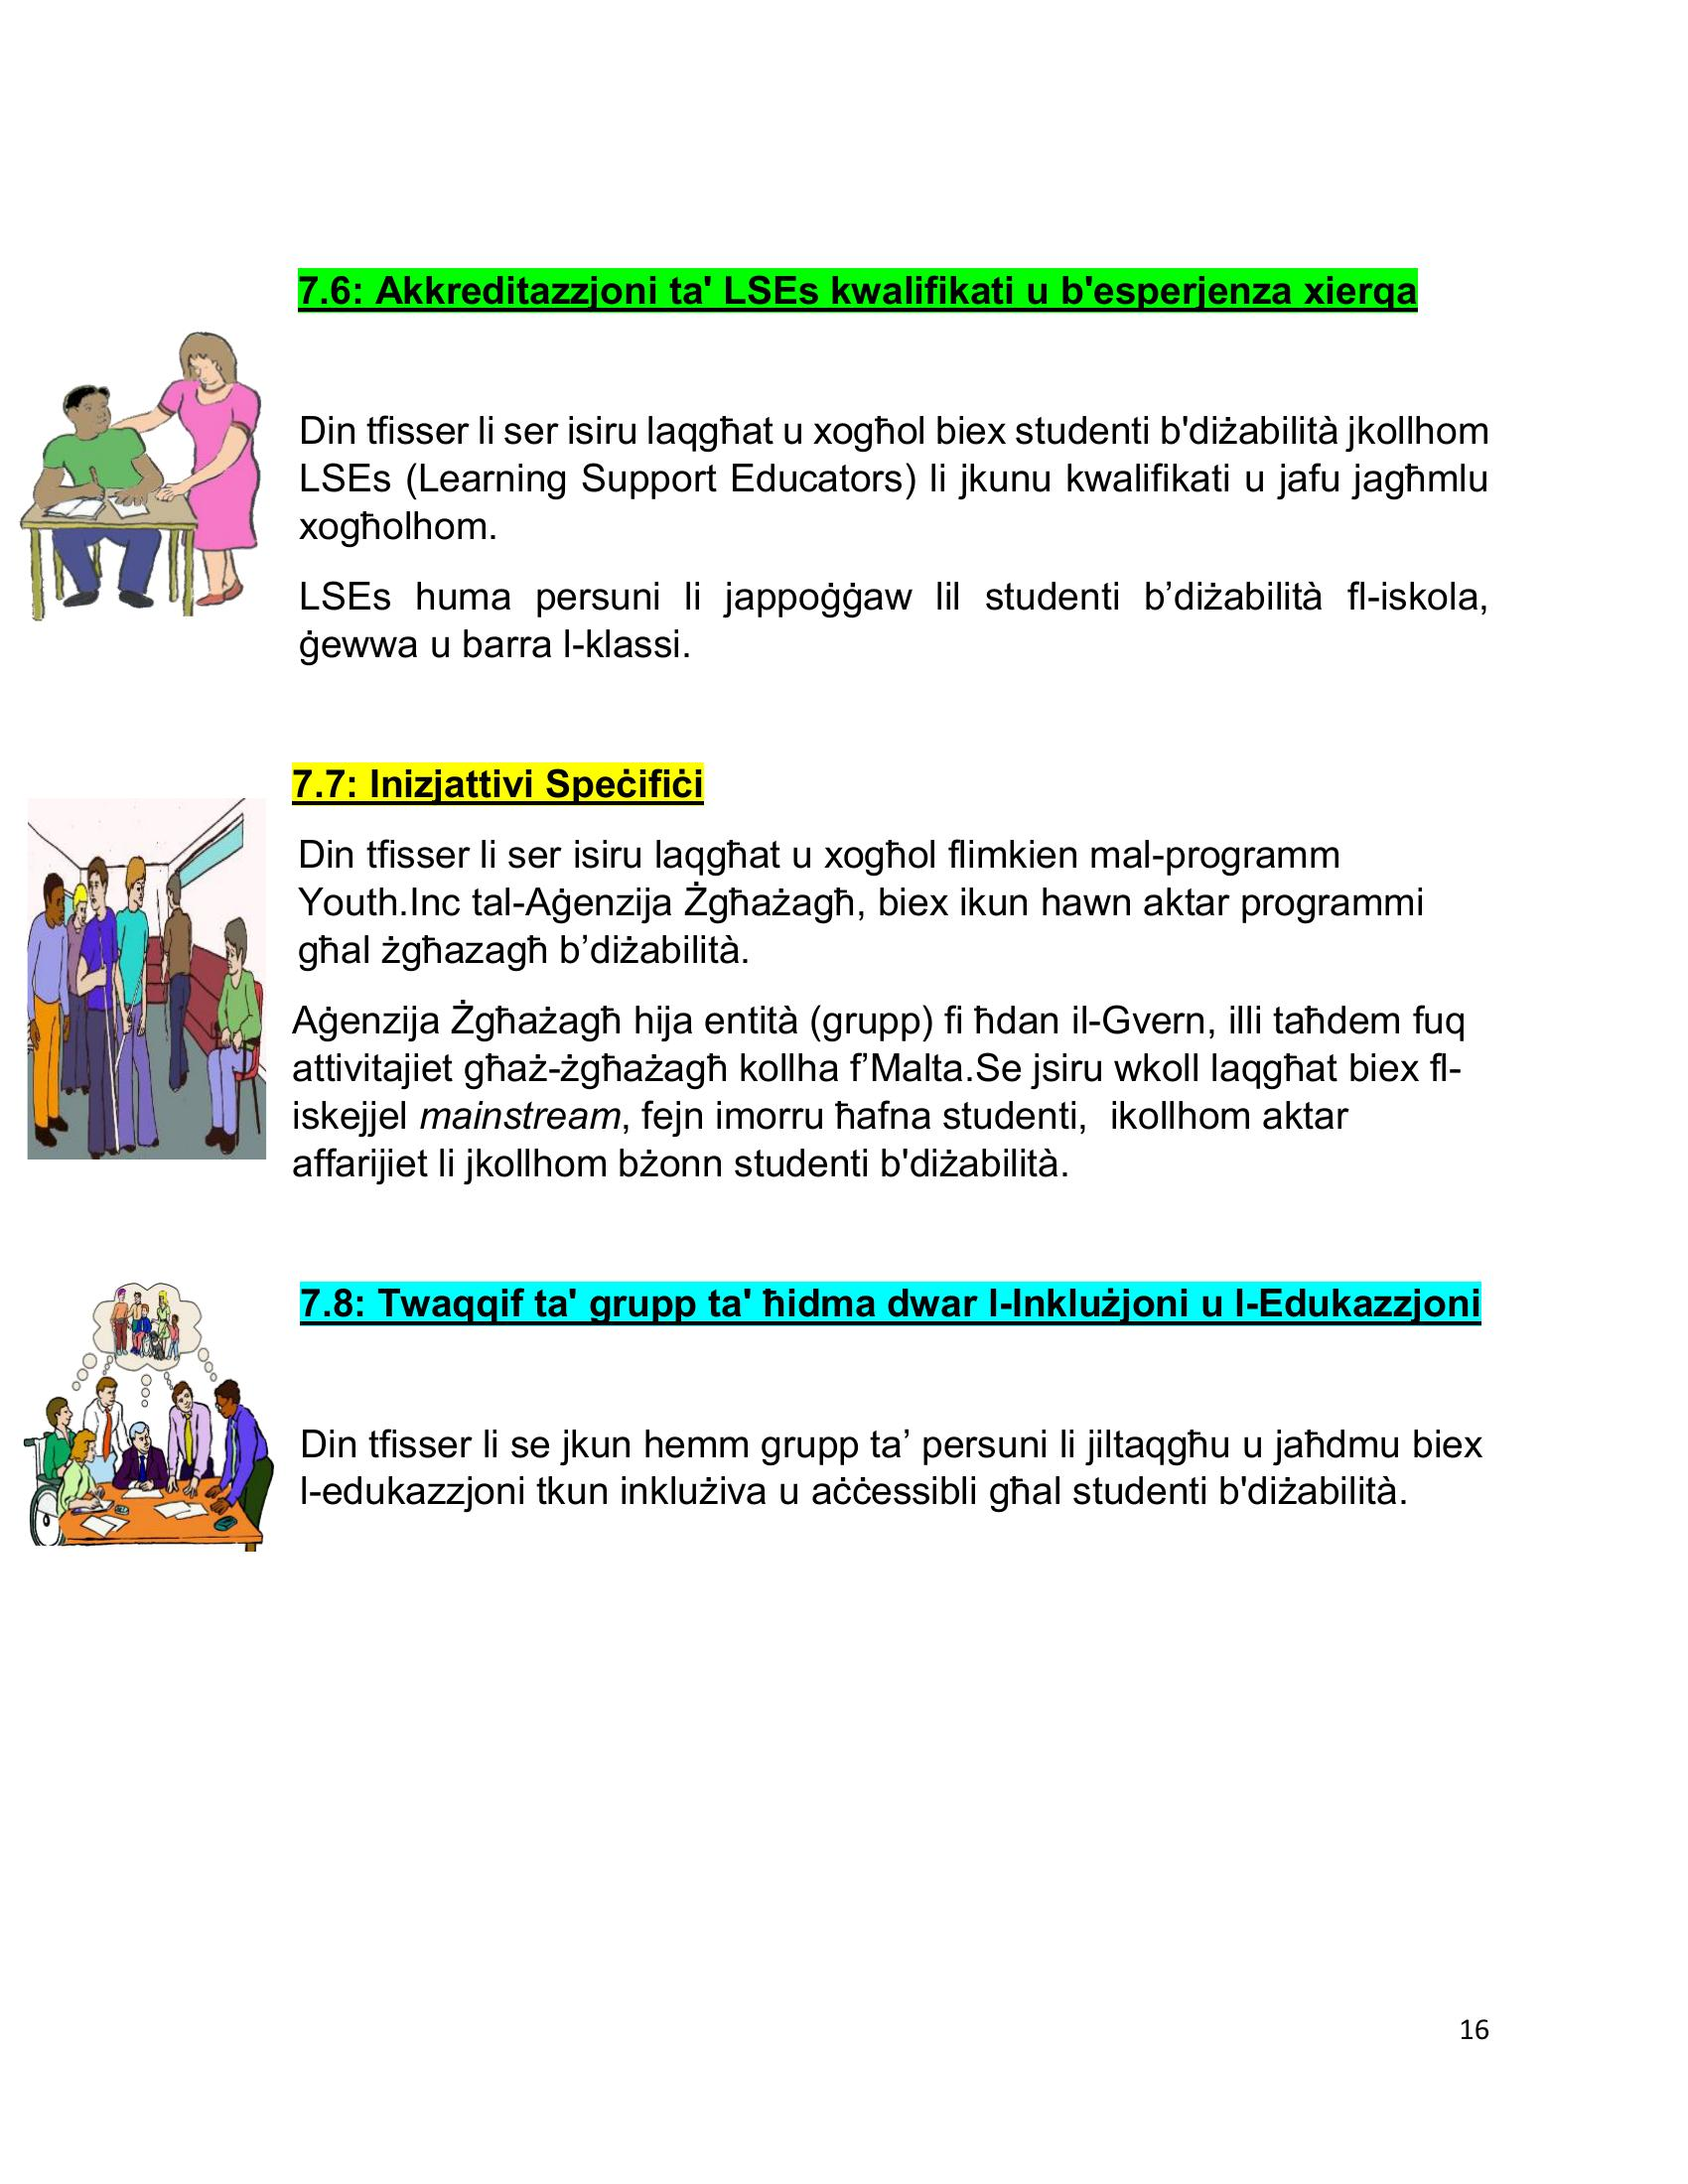text: (282, 248, 1516, 1595)
